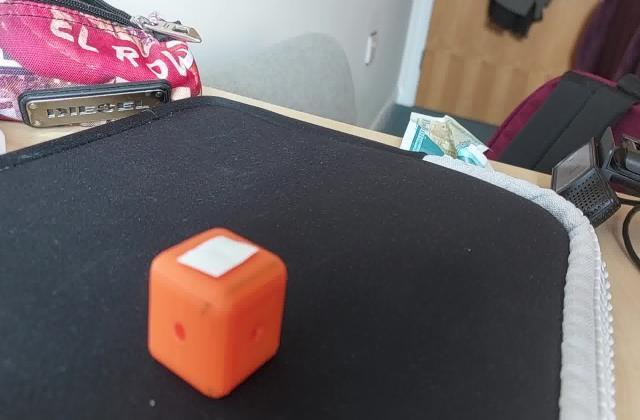cube: (144, 220, 291, 399)
white: (171, 232, 267, 281)
